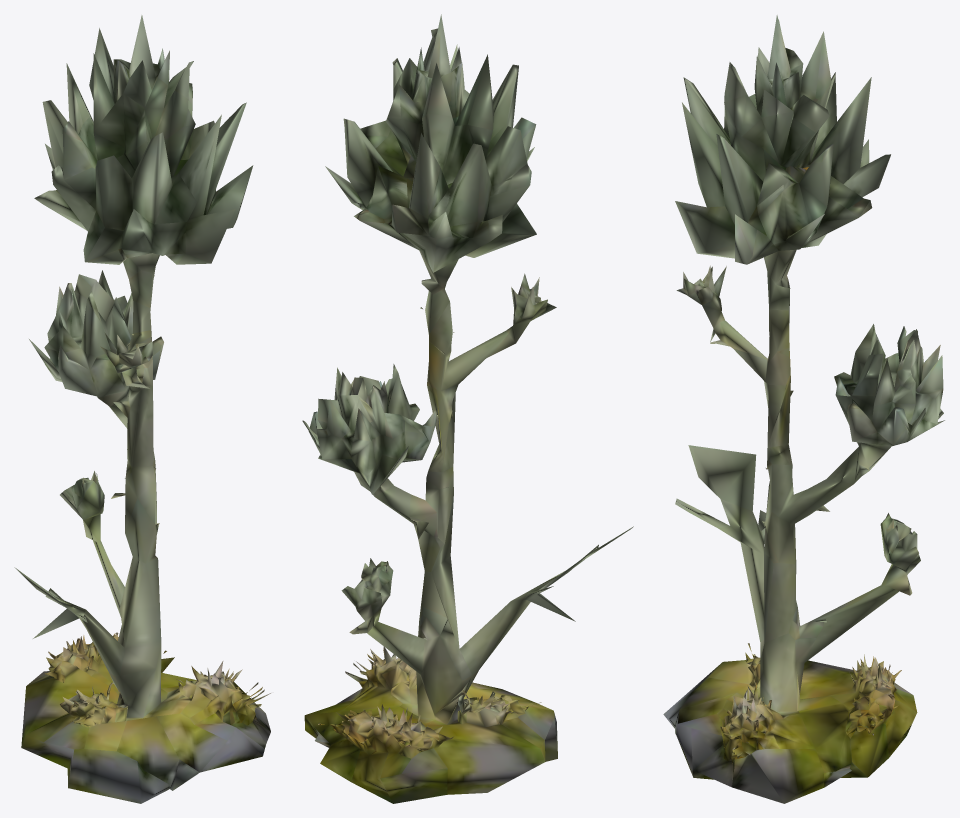
Rendered from fraijelon.glb.
3 renders of one model, left to right at view 1: azimuth 30°, elevation 25°; view 2: azimuth 150°, elevation 25°; view 3: azimuth 270°, elevation 25°, orthographic.
Visible parts, largest first — view 1: tripo_node_6d452d9e-a026-4c0d-999e-c41c0cd7a1f3; view 2: tripo_node_6d452d9e-a026-4c0d-999e-c41c0cd7a1f3; view 3: tripo_node_6d452d9e-a026-4c0d-999e-c41c0cd7a1f3.
Part boxes in pixels (bbox=[...]): tripo_node_6d452d9e-a026-4c0d-999e-c41c0cd7a1f3: bbox=[14, 15, 270, 803]; tripo_node_6d452d9e-a026-4c0d-999e-c41c0cd7a1f3: bbox=[302, 14, 633, 803]; tripo_node_6d452d9e-a026-4c0d-999e-c41c0cd7a1f3: bbox=[663, 15, 944, 803].
Bounding box in the file's own units: 0.3926 × 0.9989 × 0.3499.
Materials: 1 (1 with a texture image).
